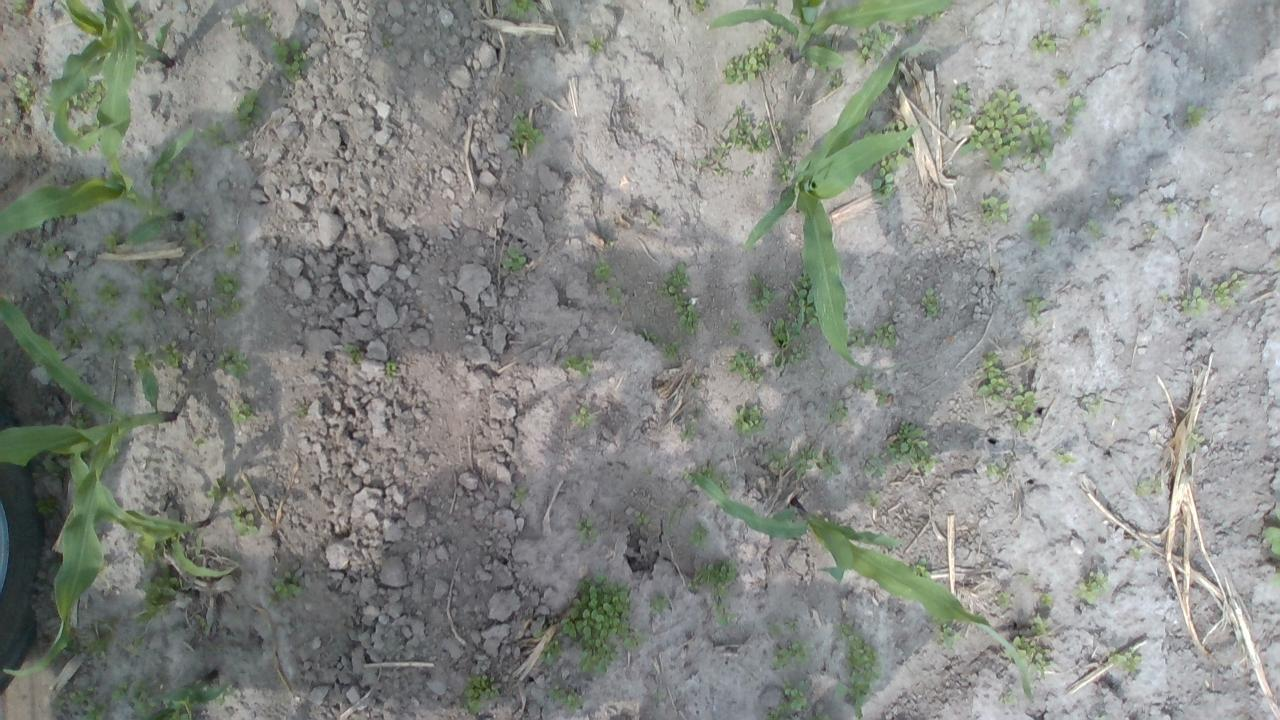Maize: (690, 468, 1034, 698), (0, 298, 177, 676), (746, 43, 940, 374), (0, 0, 190, 254), (46, 0, 172, 153), (705, 0, 954, 65), (94, 492, 238, 578), (141, 664, 235, 720)
Weeds: (562, 572, 649, 676), (960, 88, 1054, 170), (832, 619, 883, 720), (886, 421, 944, 475), (724, 40, 784, 84), (132, 566, 178, 622), (771, 314, 810, 368), (870, 151, 909, 205), (1006, 634, 1056, 676), (853, 20, 896, 68), (784, 269, 820, 326), (685, 558, 738, 596), (974, 350, 1010, 404), (504, 111, 546, 157), (762, 681, 808, 720), (267, 38, 306, 82), (463, 672, 499, 716), (64, 78, 107, 112), (130, 673, 160, 720), (1263, 504, 1280, 586), (232, 88, 262, 134), (1074, 569, 1111, 606), (670, 292, 701, 336), (198, 118, 238, 151), (215, 347, 251, 382), (268, 570, 304, 605), (725, 348, 762, 382), (1059, 95, 1088, 138), (745, 274, 776, 314), (78, 618, 111, 655), (771, 639, 810, 669), (656, 262, 690, 296), (134, 536, 168, 569), (227, 500, 257, 536), (1021, 289, 1050, 326), (1076, 0, 1112, 29), (125, 0, 151, 40), (730, 403, 764, 433), (1025, 213, 1052, 250), (1178, 286, 1210, 317), (772, 152, 800, 187), (33, 449, 70, 475), (947, 84, 971, 124), (70, 120, 102, 150), (792, 442, 820, 476), (558, 352, 594, 378), (1106, 647, 1142, 673), (1077, 388, 1104, 422), (548, 684, 583, 710), (96, 276, 124, 308), (867, 322, 898, 350), (210, 270, 243, 296), (979, 195, 1010, 222), (228, 396, 257, 424), (710, 599, 739, 627), (150, 156, 178, 185), (140, 278, 167, 308), (62, 325, 94, 350), (502, 0, 540, 21), (204, 475, 234, 501), (816, 448, 842, 478), (132, 343, 156, 375), (728, 118, 752, 150), (12, 72, 36, 104), (826, 397, 850, 428), (1132, 474, 1163, 498), (1210, 280, 1237, 307), (178, 156, 204, 184), (682, 464, 715, 486), (100, 326, 124, 356), (159, 338, 183, 368), (686, 520, 710, 550), (184, 218, 208, 248), (1026, 30, 1057, 53), (540, 632, 562, 664), (934, 626, 966, 648), (859, 454, 886, 480), (1010, 384, 1036, 411), (501, 247, 528, 272), (919, 286, 940, 316), (60, 280, 84, 306), (68, 410, 95, 433), (213, 298, 244, 318), (38, 238, 66, 260), (172, 290, 196, 315), (1181, 103, 1207, 126), (746, 132, 772, 155), (847, 372, 876, 392), (605, 285, 627, 311), (1186, 426, 1206, 454), (99, 229, 123, 252), (576, 519, 598, 544), (33, 498, 60, 518), (844, 326, 866, 350), (229, 5, 253, 27), (1011, 412, 1036, 433), (1029, 614, 1052, 636), (659, 339, 683, 360), (649, 591, 670, 615), (569, 406, 595, 425), (81, 702, 108, 720), (766, 448, 789, 469), (900, 12, 920, 36), (909, 556, 930, 578), (125, 634, 148, 654), (984, 461, 1010, 478), (222, 236, 244, 256), (1084, 218, 1106, 238), (70, 688, 94, 706), (592, 256, 610, 280), (823, 72, 844, 92), (509, 485, 530, 505), (1056, 448, 1078, 467), (344, 344, 364, 364), (632, 509, 652, 528), (110, 681, 128, 702), (681, 419, 697, 441), (1230, 270, 1246, 292), (130, 308, 148, 327), (586, 34, 604, 53), (994, 589, 1012, 608), (863, 489, 882, 507), (685, 0, 707, 15), (766, 22, 784, 40), (1016, 342, 1034, 360), (713, 140, 730, 159), (58, 305, 78, 321), (717, 475, 732, 496), (928, 614, 952, 627), (257, 10, 273, 29), (641, 325, 658, 342), (785, 617, 802, 634), (860, 126, 884, 138), (512, 78, 530, 94), (1144, 223, 1160, 241), (384, 359, 399, 378), (876, 388, 890, 408), (43, 93, 54, 118), (1162, 202, 1179, 218), (1057, 70, 1071, 89), (998, 691, 1017, 705), (130, 55, 146, 71), (196, 613, 211, 630), (812, 59, 829, 74), (728, 319, 741, 338), (1108, 196, 1127, 209), (169, 710, 193, 720), (646, 209, 662, 224), (1075, 24, 1092, 38), (768, 618, 782, 634), (11, 0, 27, 14), (814, 38, 834, 49), (926, 11, 942, 24), (902, 140, 916, 154), (1038, 592, 1052, 606), (889, 120, 904, 133), (760, 0, 776, 12), (697, 157, 713, 169), (1158, 291, 1172, 304), (794, 132, 809, 144), (54, 696, 66, 710), (712, 164, 724, 176), (531, 629, 544, 640), (666, 508, 680, 518), (1128, 548, 1142, 558), (1018, 572, 1030, 583), (741, 166, 754, 176), (194, 437, 207, 447), (1198, 200, 1214, 208), (814, 713, 832, 720), (134, 262, 146, 272), (296, 404, 306, 416), (733, 106, 744, 116), (690, 374, 699, 384), (1046, 0, 1060, 6), (759, 121, 768, 130)
